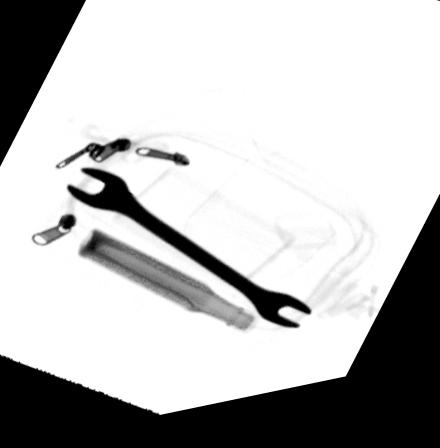Wrench: (65, 169, 313, 343)
